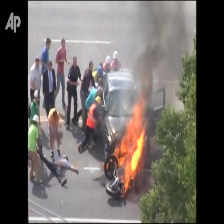fire_h: (113, 90, 146, 194)
fire_l: (105, 158, 112, 170)
